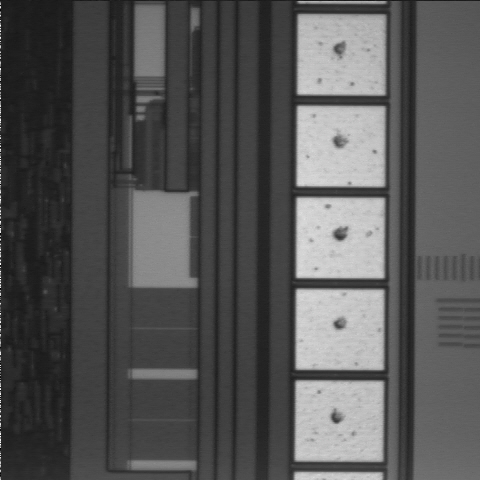pad: (297, 106, 384, 186), (297, 198, 384, 278), (296, 290, 383, 370), (296, 381, 383, 461), (298, 16, 384, 95)
